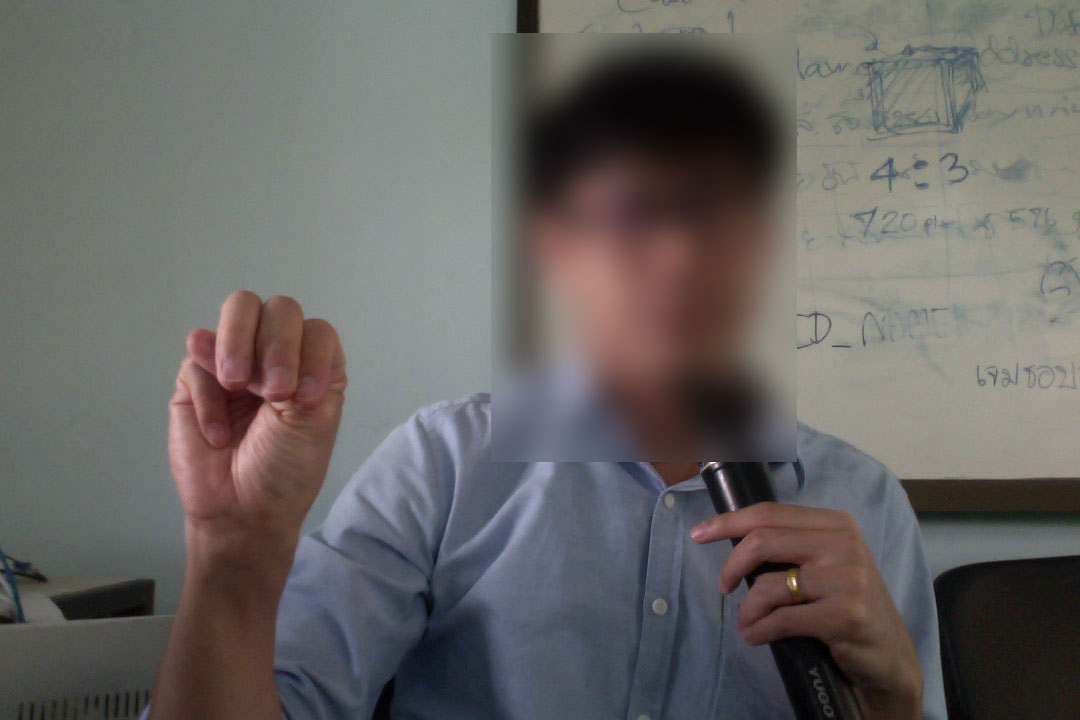mor: (154, 279, 353, 550)
